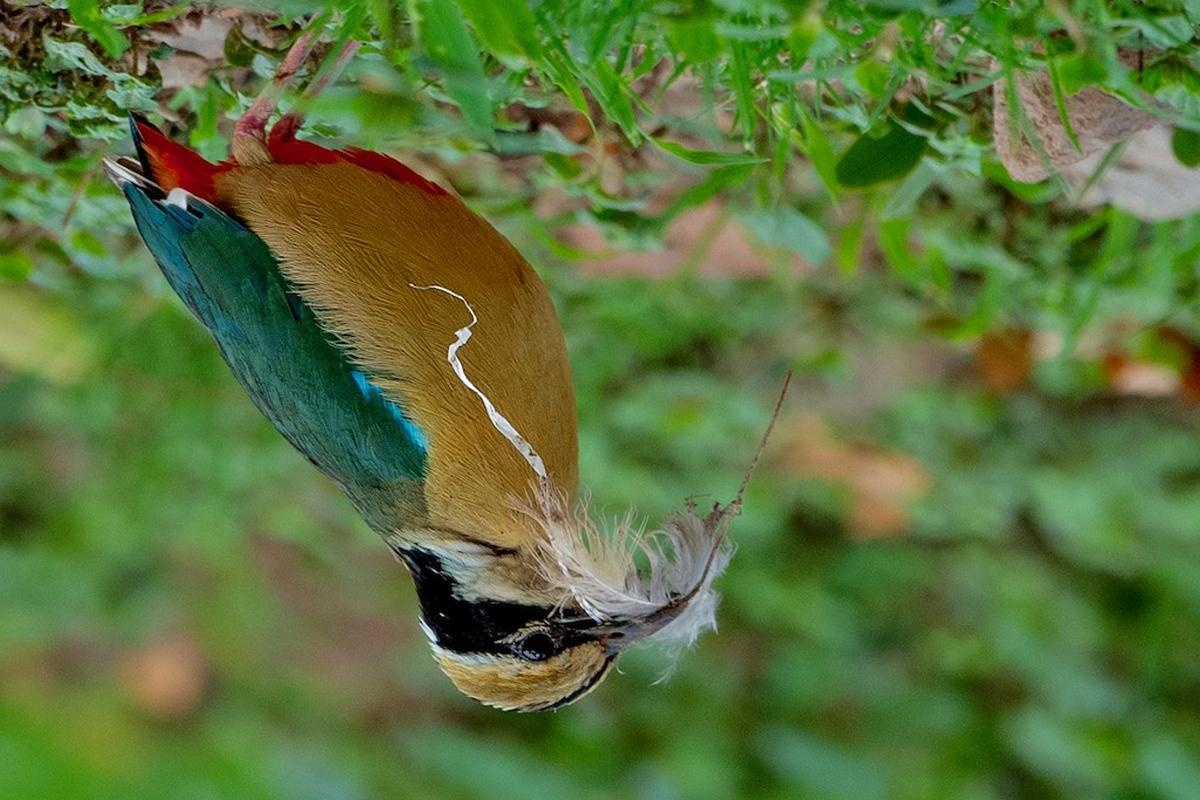pitta: (79, 81, 776, 734)
